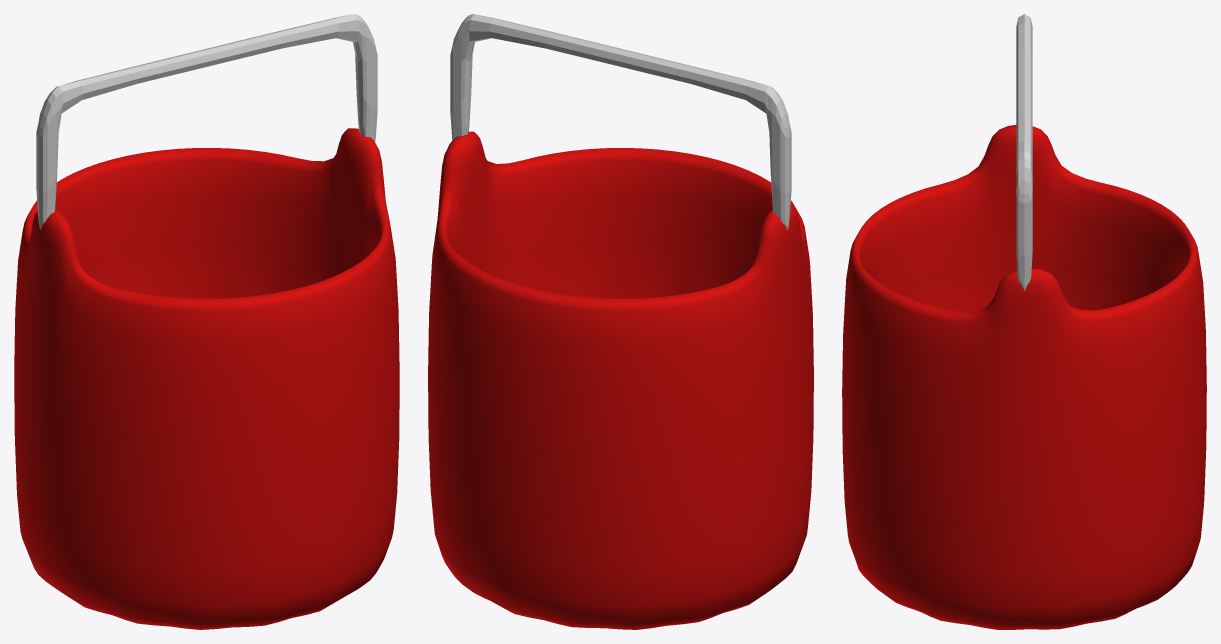
File: Eimer.fbx
The picture shows the model from 3 angles, left to right: view 1: azimuth 30°, elevation 25°; view 2: azimuth 150°, elevation 25°; view 3: azimuth 270°, elevation 25°; orthographic projection. The views are drawn at different scales.
Visible parts, largest first — view 1: Eimer, Eimer hänkel; view 2: Eimer, Eimer hänkel; view 3: Eimer, Eimer hänkel.
Boxes of the visible parts, x1=… form: Eimer: x1=14, y1=128, x2=399, y2=629; Eimer hänkel: x1=36, y1=14, x2=377, y2=229; Eimer: x1=428, y1=131, x2=813, y2=629; Eimer hänkel: x1=450, y1=14, x2=791, y2=229; Eimer: x1=842, y1=125, x2=1206, y2=629; Eimer hänkel: x1=1016, y1=14, x2=1032, y2=291.
Size of the model in its own units: 196 by 291 by 194.
